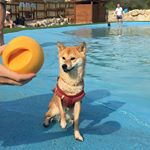puppy: (43, 39, 92, 140)
